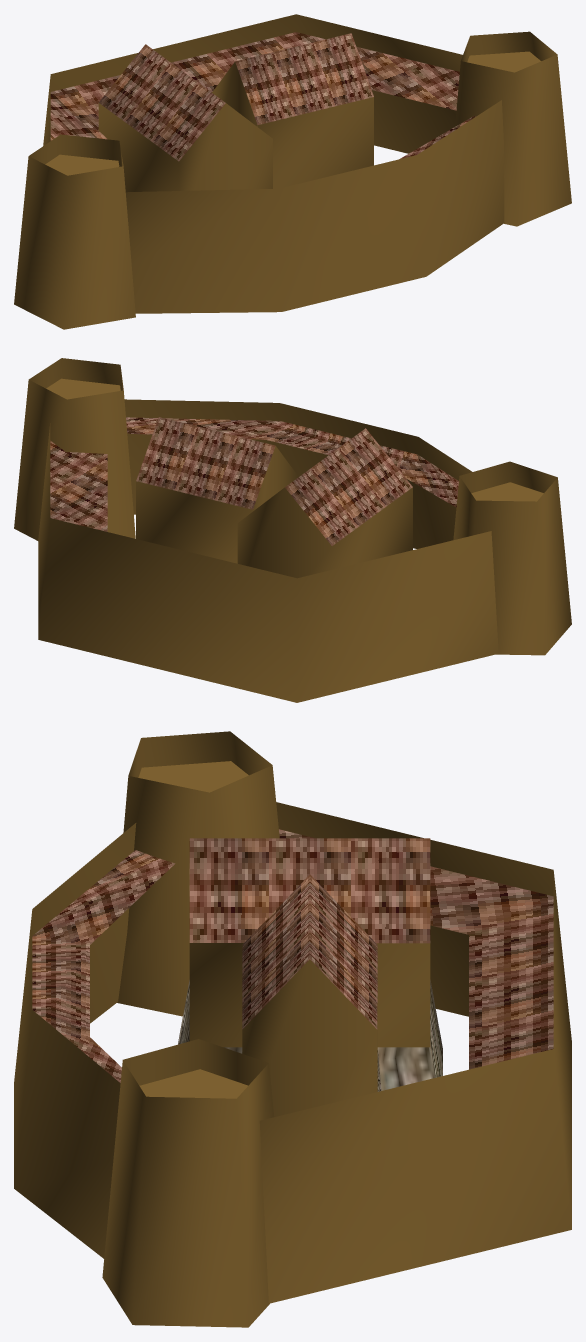
The model's file is cityicon.obj.
3 renders of one model, top to bottom at view 1: azimuth 30°, elevation 25°; view 2: azimuth 150°, elevation 25°; view 3: azimuth 270°, elevation 25°, orthographic. The views are drawn at different scales.
Size of the model in its own units: 1.89 by 0.5925 by 1.16.
